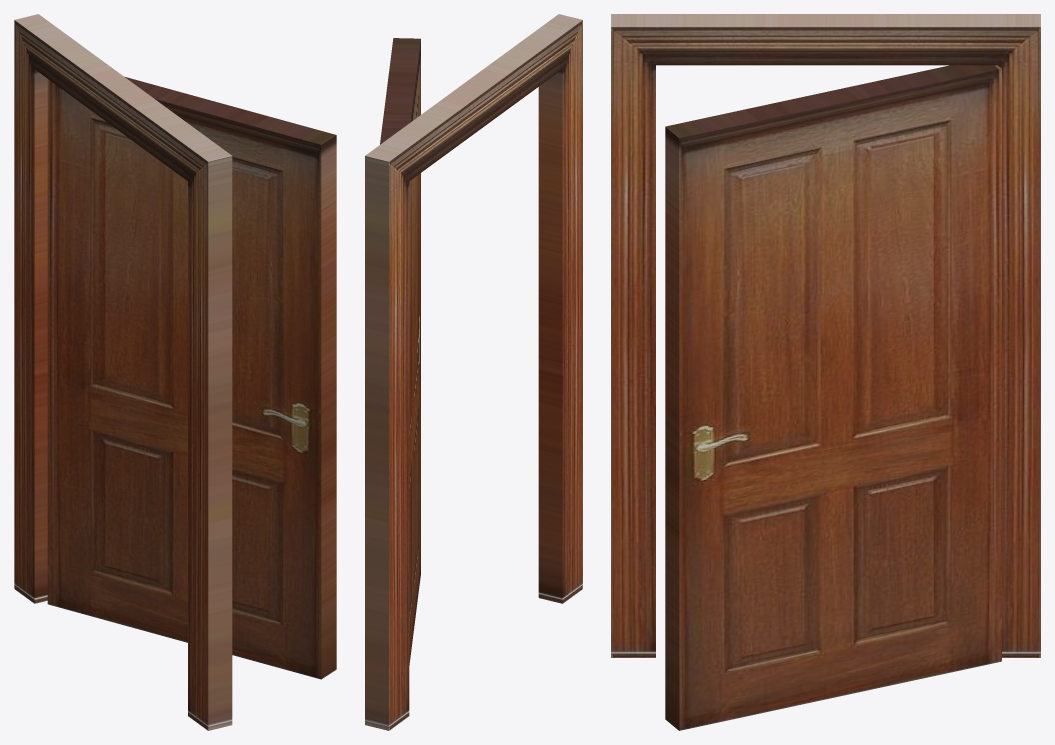
File: Door.fbx
3 renders of one model, left to right at view 1: azimuth 30°, elevation 25°; view 2: azimuth 150°, elevation 25°; view 3: azimuth 270°, elevation 25°, orthographic. The views are drawn at different scales.
Parts seen in each view (by area): view 1: Cube.002, Cube.001; view 2: Cube.001, Cube.002; view 3: Cube.002, Cube.001.
Part boxes in pixels (x1,y1,x2,y2): Cube.002: (47,76,336,679); Cube.001: (14,14,232,730); Cube.001: (365,14,582,730); Cube.002: (380,38,420,665); Cube.002: (665,65,1001,730); Cube.001: (611,14,1040,657).
Size of the model in its own units: 282 by 964 by 595.
1 material, 1 textured.
